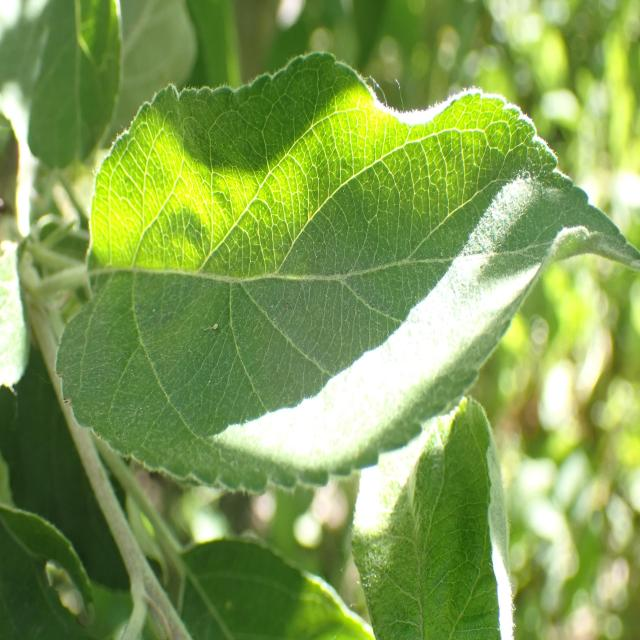healthy: (56, 51, 634, 494), (350, 393, 516, 640), (176, 534, 376, 640), (27, 0, 122, 170)
